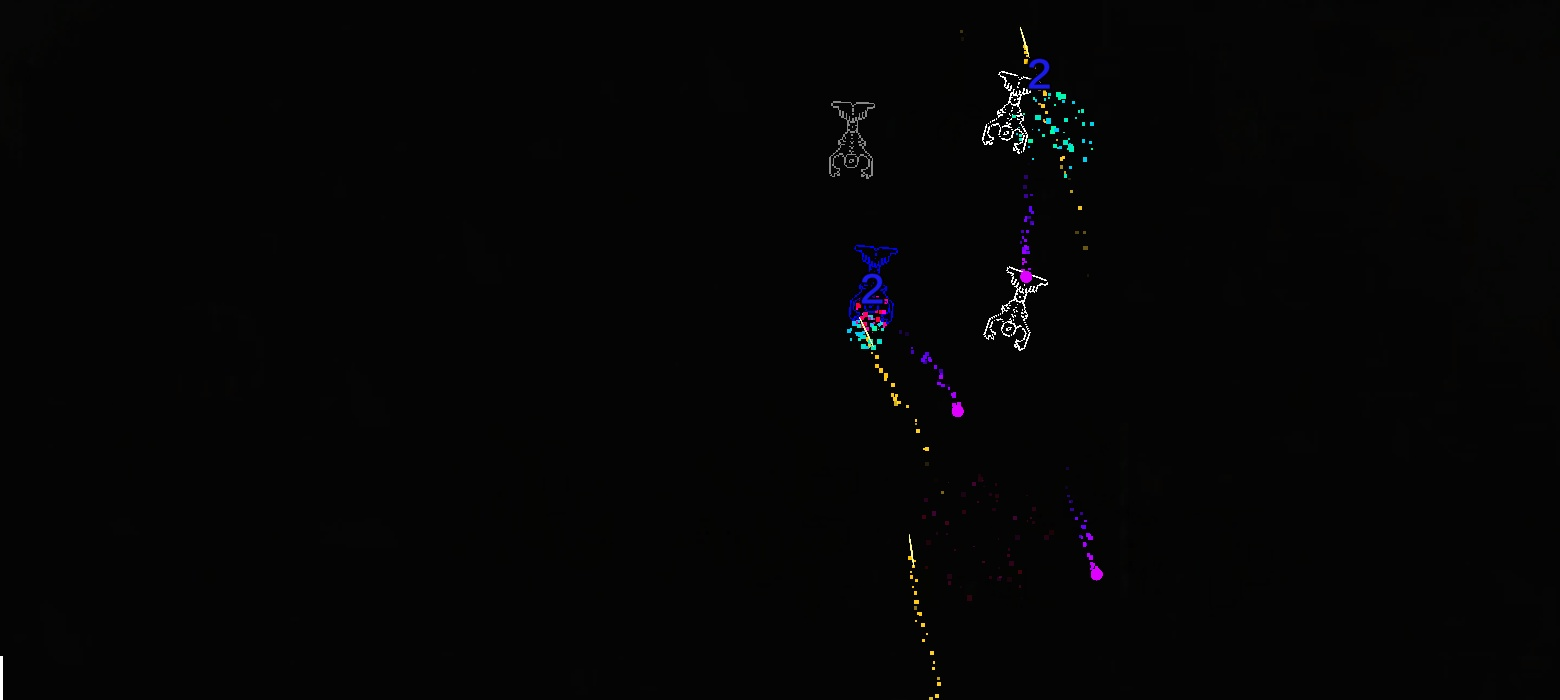enemy: (983, 266, 1048, 351), (982, 70, 1043, 155), (848, 243, 898, 324), (829, 101, 876, 179)
